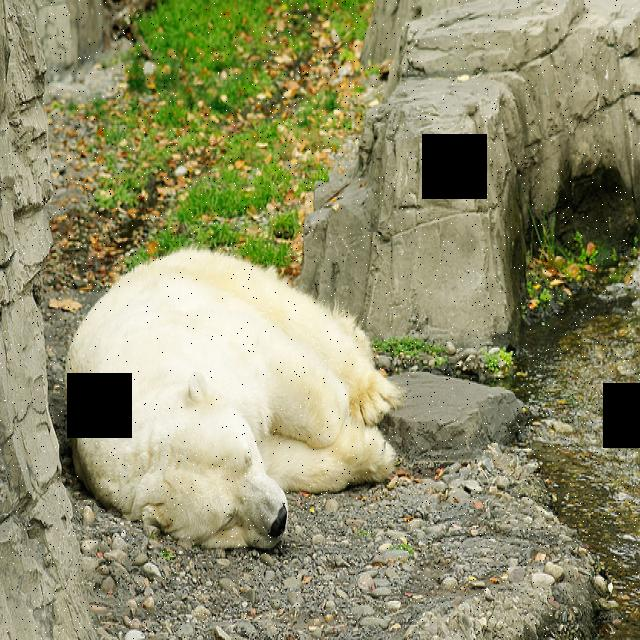Bear: (60, 237, 407, 576)
